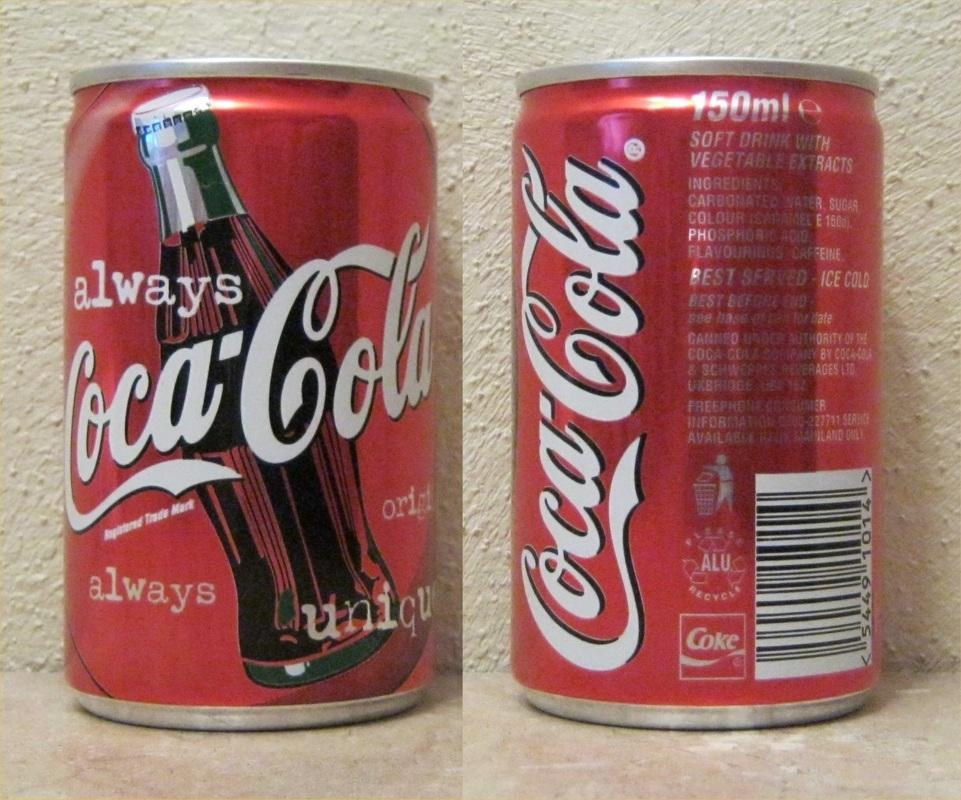metal: (58, 59, 436, 730), (511, 56, 885, 730)
